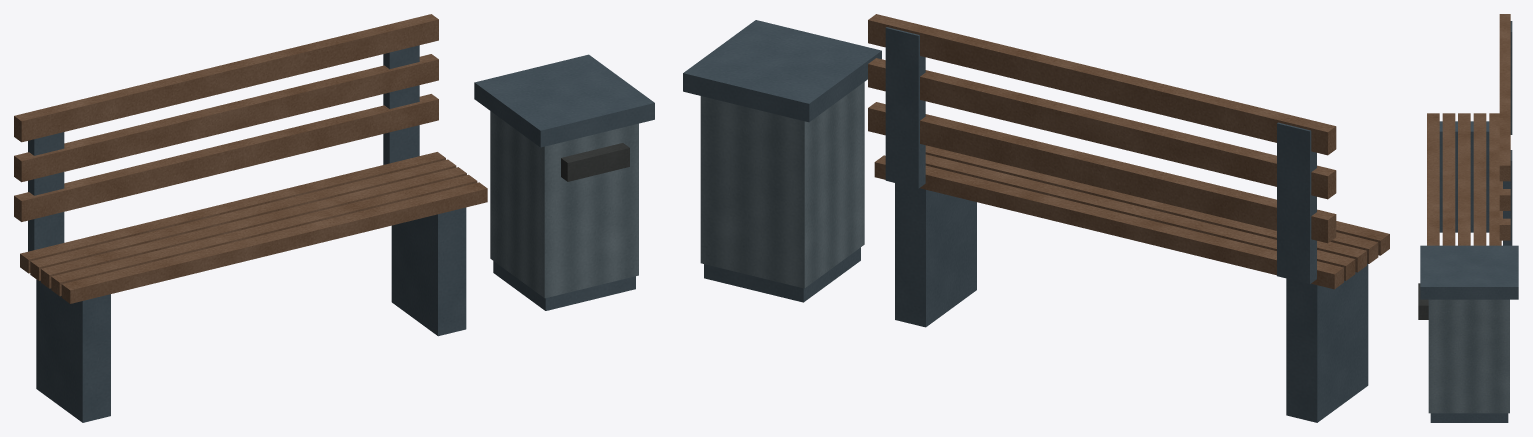
File: BENCH_local.glb
The picture shows the model from 3 angles, left to right: view 1: azimuth 30°, elevation 25°; view 2: azimuth 150°, elevation 25°; view 3: azimuth 270°, elevation 25°; orthographic projection. The views are drawn at different scales.
Visible parts, largest first — view 1: Platform_Bench_Bin__Bench_Backrest_TimberSlats, Platform_Bench_Bin__Bench_Seat_TimberSlats, Platform_Bench_Bin__Waste_Bin_Cabinet, Platform_Bench_Bin__Bench_Painted_Steel_Legs, Platform_Bench_Bin__Waste_Bin_Lid, Platform_Bench_Bin__Bench_Back_SteelStrut, Platform_Bench_Bin__Bin_Base, Platform_Bench_Bin__Waste_Bin_Front_Disposal_Slot; view 2: Platform_Bench_Bin__Bench_Backrest_TimberSlats, Platform_Bench_Bin__Waste_Bin_Cabinet, Platform_Bench_Bin__Bench_Painted_Steel_Legs, Platform_Bench_Bin__Bench_Seat_TimberSlats, Platform_Bench_Bin__Waste_Bin_Lid, Platform_Bench_Bin__Bench_Back_SteelStrut, Platform_Bench_Bin__Bin_Base; view 3: Platform_Bench_Bin__Waste_Bin_Cabinet, Platform_Bench_Bin__Bench_Seat_TimberSlats, Platform_Bench_Bin__Waste_Bin_Lid, Platform_Bench_Bin__Bench_Backrest_TimberSlats, Platform_Bench_Bin__Bench_Painted_Steel_Legs, Platform_Bench_Bin__Bin_Base, Platform_Bench_Bin__Bench_Back_SteelStrut, Platform_Bench_Bin__Waste_Bin_Front_Disposal_Slot.
Boxes of the visible parts, x1,y1,x2,y2 form: Platform_Bench_Bin__Bench_Backrest_TimberSlats: (14,14,438,221); Platform_Bench_Bin__Bench_Seat_TimberSlats: (20,152,487,303); Platform_Bench_Bin__Waste_Bin_Cabinet: (490,111,638,298); Platform_Bench_Bin__Bench_Painted_Steel_Legs: (36,207,466,422); Platform_Bench_Bin__Waste_Bin_Lid: (474,54,654,147); Platform_Bench_Bin__Bench_Back_SteelStrut: (28,45,419,251); Platform_Bench_Bin__Bin_Base: (493,261,635,310); Platform_Bench_Bin__Waste_Bin_Front_Disposal_Slot: (561,143,629,181); Platform_Bench_Bin__Bench_Backrest_TimberSlats: (868,14,1336,243); Platform_Bench_Bin__Waste_Bin_Cabinet: (700,82,864,288); Platform_Bench_Bin__Bench_Painted_Steel_Legs: (895,183,1368,422); Platform_Bench_Bin__Bench_Seat_TimberSlats: (874,145,1389,289); Platform_Bench_Bin__Waste_Bin_Lid: (683,20,881,122); Platform_Bench_Bin__Bench_Back_SteelStrut: (885,27,1316,283); Platform_Bench_Bin__Bin_Base: (704,247,860,302); Platform_Bench_Bin__Waste_Bin_Cabinet: (1428,299,1509,413); Platform_Bench_Bin__Bench_Seat_TimberSlats: (1427,113,1501,245); Platform_Bench_Bin__Waste_Bin_Lid: (1420,245,1518,299); Platform_Bench_Bin__Bench_Backrest_TimberSlats: (1499,14,1510,240); Platform_Bench_Bin__Bench_Painted_Steel_Legs: (1439,121,1489,232); Platform_Bench_Bin__Bin_Base: (1430,413,1508,422); Platform_Bench_Bin__Bench_Back_SteelStrut: (1503,21,1512,245); Platform_Bench_Bin__Waste_Bin_Front_Disposal_Slot: (1418,283,1428,319).
Size of the model in its own units: 2.89 by 1.3 by 0.58.
Materials: 4 (4 with a texture image).
